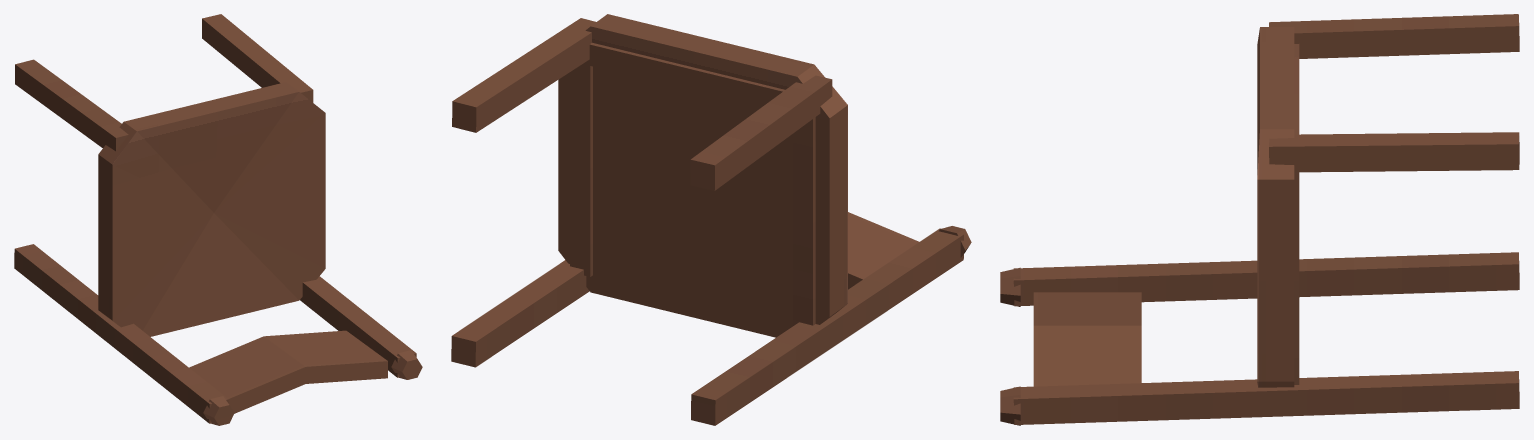
Rendered from pz_chair_seating_indoor_02_wooden_fidelity_r1.obj.
3 renders of one model, left to right at view 1: azimuth 30°, elevation 25°; view 2: azimuth 150°, elevation 25°; view 3: azimuth 270°, elevation 25°, orthographic. The views are drawn at different scales.
Visible parts, largest first — view 1: seat, wood, back; view 2: seat, wood, back; view 3: wood, seat, back.
Boxes of the visible parts, <box> form: seat: <box>98,82,325,336</box>; wood: <box>14,14,422,425</box>; back: <box>189,330,387,413</box>; seat: <box>558,14,847,337</box>; wood: <box>451,18,971,425</box>; back: <box>848,212,918,289</box>; wood: <box>1000,14,1519,425</box>; seat: <box>1257,27,1294,387</box>; back: <box>1033,292,1141,386</box>.
Bounding box in the file's own units: 0.5066 × 0.5024 × 0.8204.
Materials: 1 (1 with a texture image).
